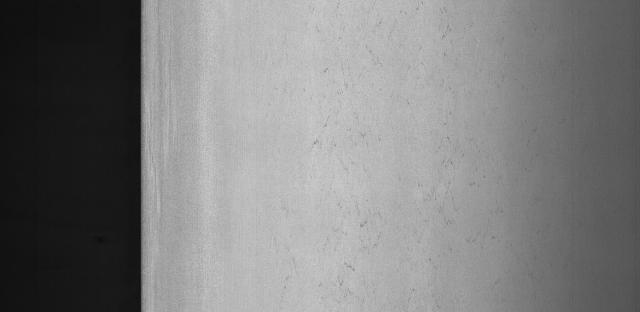silk_spot: (302, 33, 484, 269)
